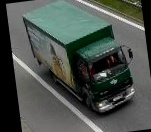truck: (20, 0, 140, 122)
